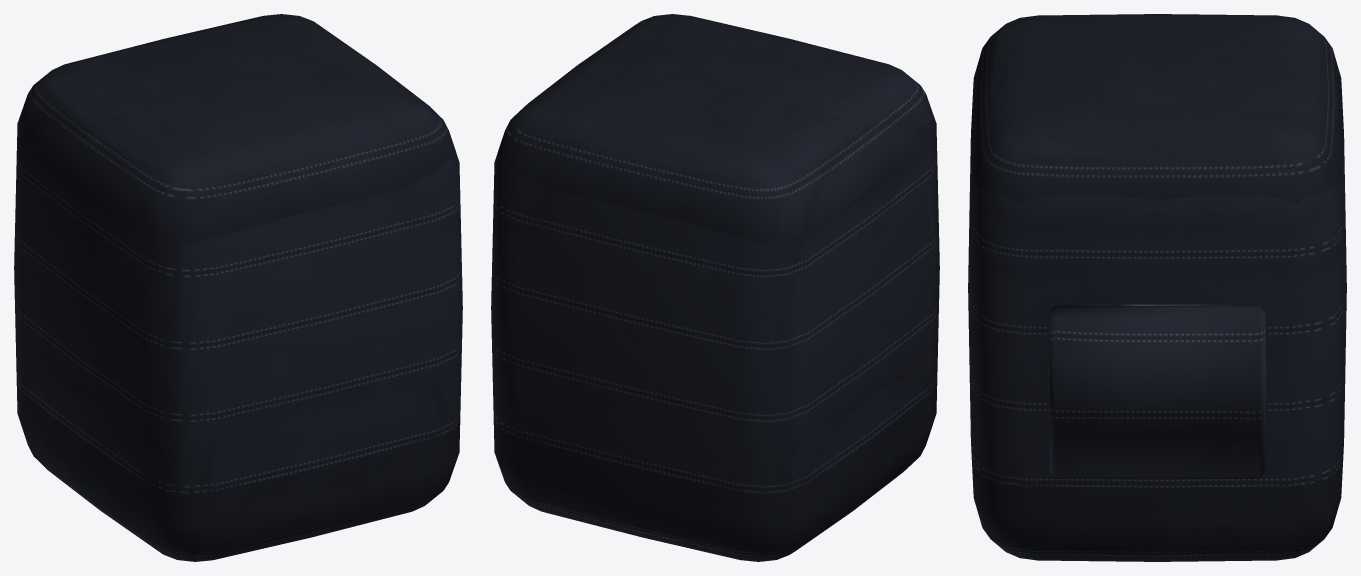
File: Remache_MusloIzq.fbx
3 renders of one model, left to right at view 1: azimuth 30°, elevation 25°; view 2: azimuth 150°, elevation 25°; view 3: azimuth 270°, elevation 25°, orthographic. The views are drawn at different scales.
Visible parts, largest first — view 1: Remache_MusloIzq; view 2: Remache_MusloIzq; view 3: Remache_MusloIzq.
Part boxes in pixels (x1,y1,x2,y2): Remache_MusloIzq: (14,14,462,561); Remache_MusloIzq: (491,14,939,561); Remache_MusloIzq: (968,14,1346,561).
Bounding box in the file's own units: 1.87 × 2.25 × 1.77.
